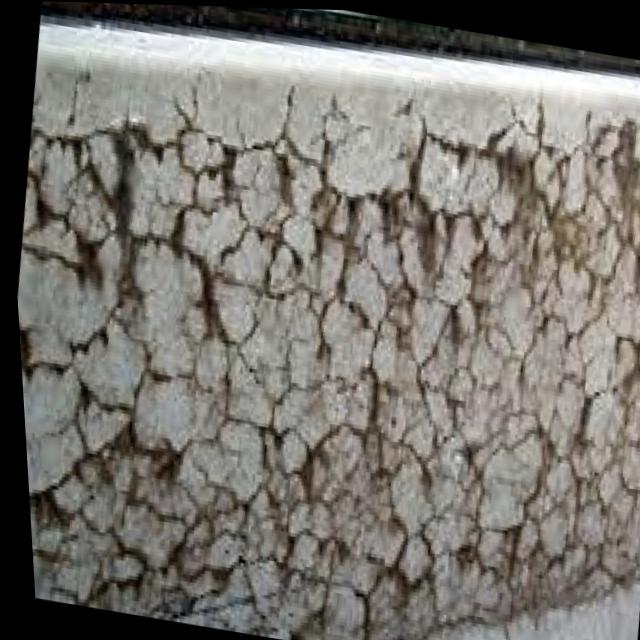Crack: (5, 110, 640, 551)
